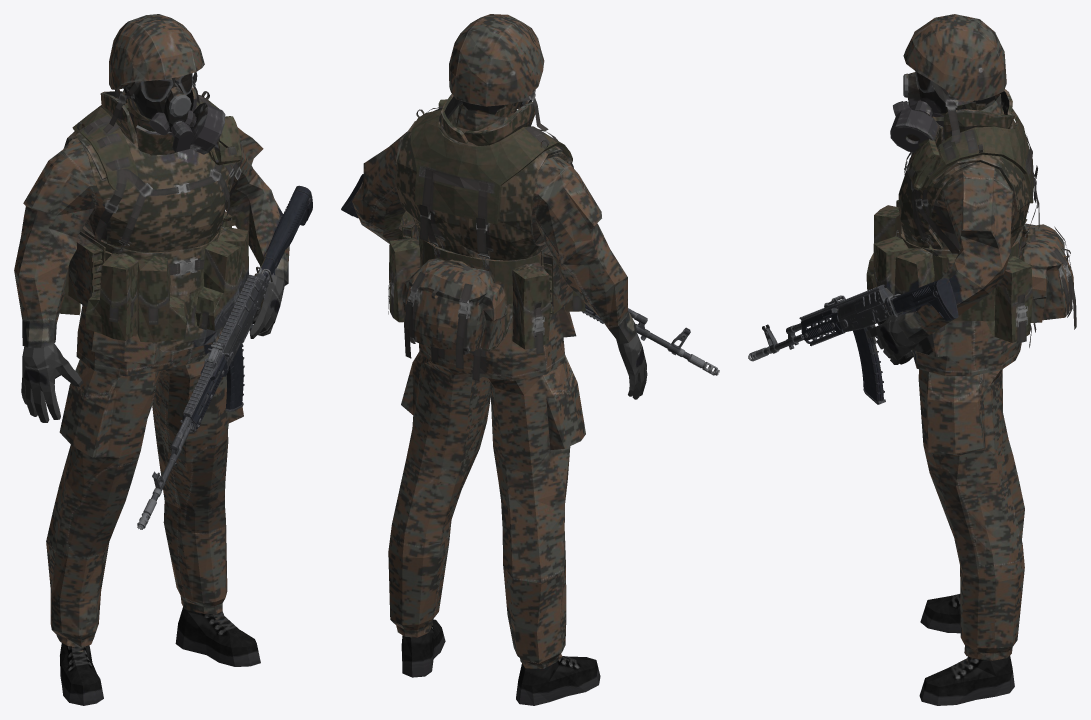
Rendered from Soldier.obj.
3 renders of one model, left to right at view 1: azimuth 30°, elevation 25°; view 2: azimuth 150°, elevation 25°; view 3: azimuth 270°, elevation 25°, orthographic.
Parts seen in each view (by area): view 1: sol_1_low; view 2: sol_1_low; view 3: sol_1_low.
Boxes of the visible parts, <box> form: sol_1_low: <box>14,14,312,705</box>; sol_1_low: <box>341,14,719,705</box>; sol_1_low: <box>748,14,1076,705</box>.
Bounding box in the file's own units: 0.8478 × 1.8 × 0.8363.
1 material, 1 textured.
